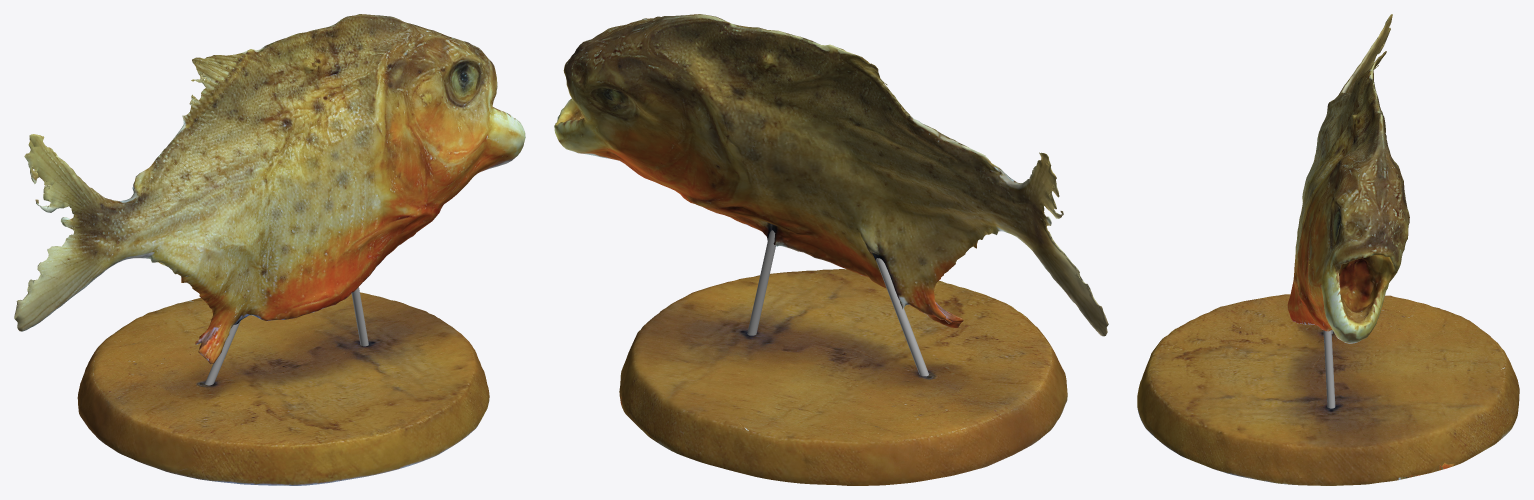
The picture shows the model from 3 angles, left to right: view 1: azimuth 30°, elevation 25°; view 2: azimuth 150°, elevation 25°; view 3: azimuth 270°, elevation 25°; orthographic projection. The views are drawn at different scales.
Parts seen in each view (by area): view 1: Prise_1__25k__Poisson, Base, Cylinder_2; view 2: Prise_1__25k__Poisson, Base, Cylinder_2; view 3: Base, Prise_1__25k__Poisson, Cylinder_2.
Boxes of the visible parts, bbox=[...] form: Prise_1__25k__Poisson: bbox=[14, 14, 525, 364]; Base: bbox=[77, 292, 489, 485]; Cylinder_2: bbox=[205, 287, 368, 385]; Prise_1__25k__Poisson: bbox=[554, 14, 1108, 336]; Base: bbox=[619, 269, 1067, 485]; Cylinder_2: bbox=[747, 230, 928, 376]; Base: bbox=[1137, 294, 1519, 485]; Prise_1__25k__Poisson: bbox=[1287, 14, 1409, 343]; Cylinder_2: bbox=[1323, 330, 1335, 408].
Bounding box in the file's own units: 2.94 × 1.9 × 1.99.
2 materials, 1 textured.
